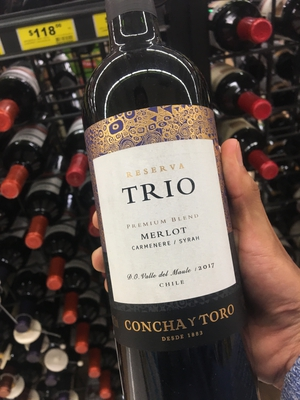trio merlot: (86, 31, 256, 391)
